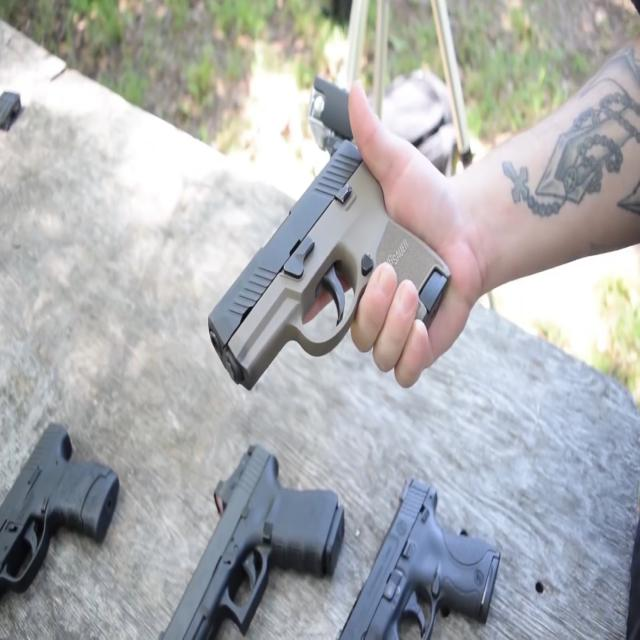handgun: (193, 140, 464, 411), (145, 438, 360, 640), (322, 461, 525, 639), (0, 426, 130, 597)
